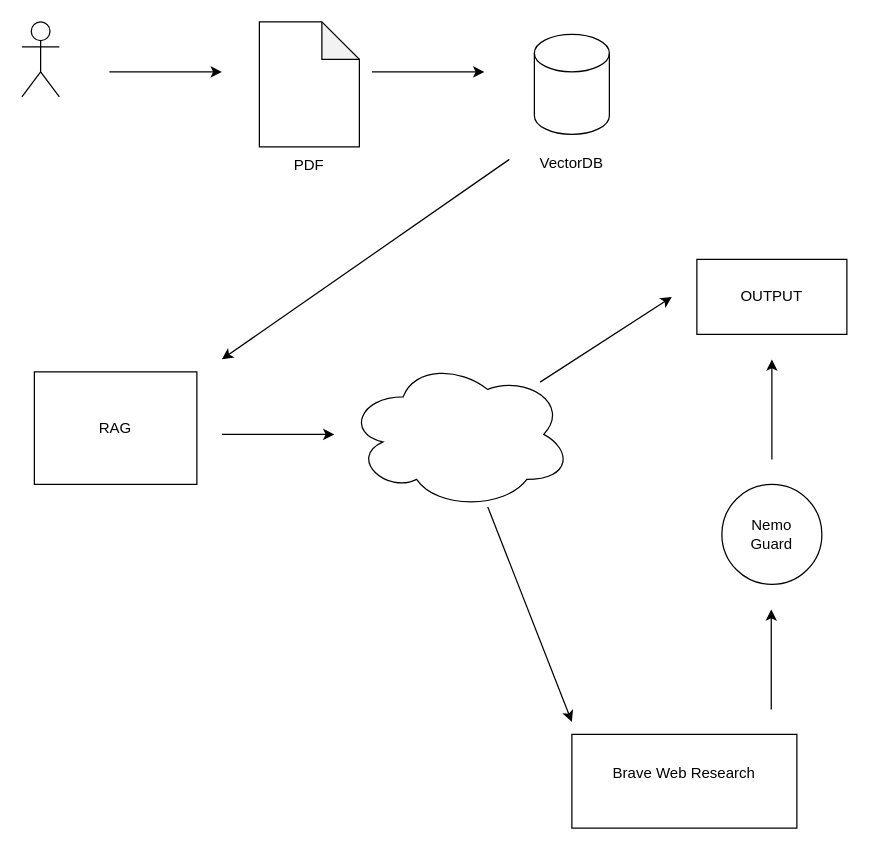
The diagram is 869 pixels wide and 850 high, and some of its shapes have lost their labels. The box of each missing label's shape, as (x1, y1, x2, y2) in pixels:
Reviewer: (346, 358, 572, 509)
User: (21, 21, 59, 97)
